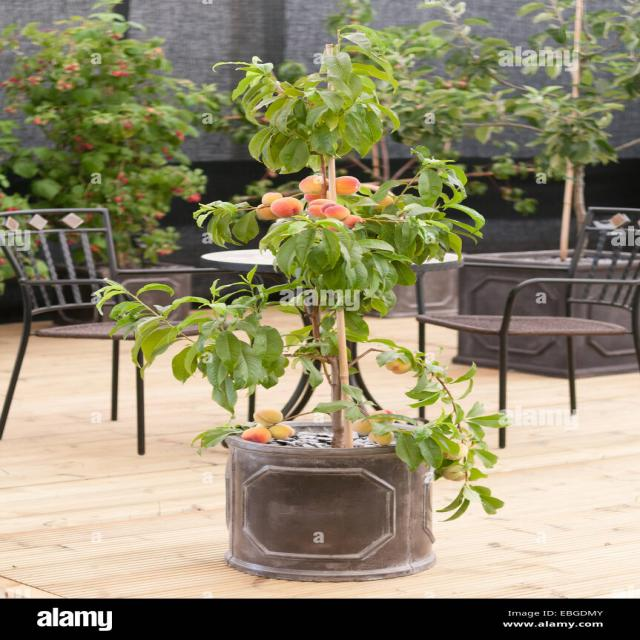peach: (225, 172, 458, 275)
